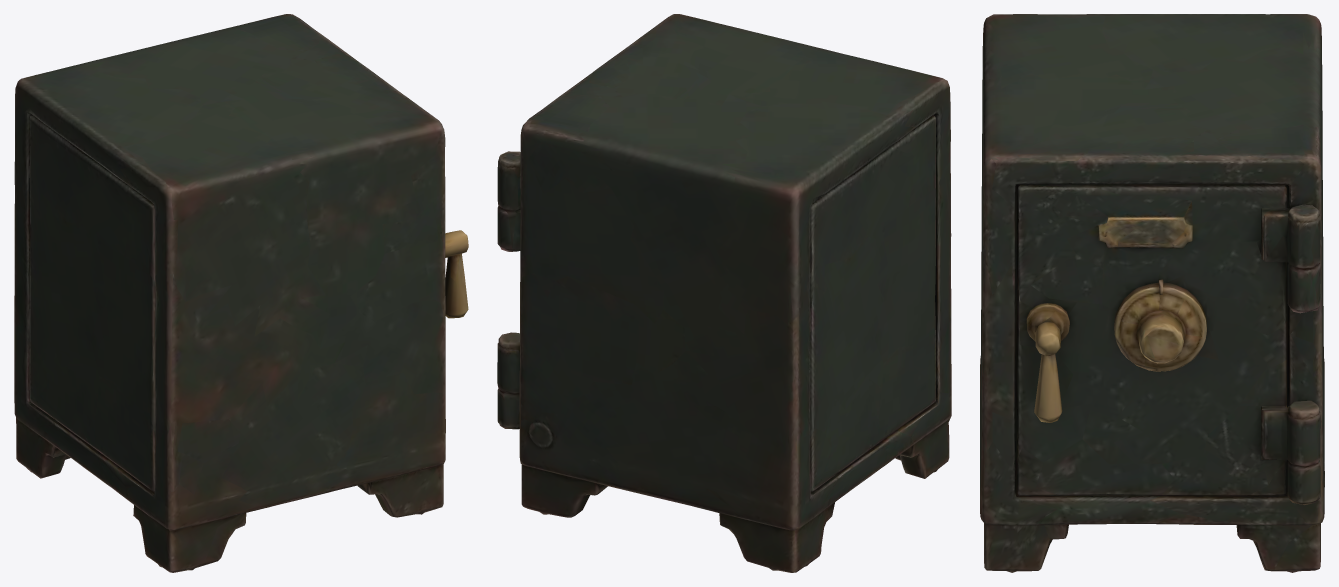
Rendered from safe.glb.
3 views of the same model, side by side, from view 1: azimuth 30°, elevation 25°; view 2: azimuth 150°, elevation 25°; view 3: azimuth 270°, elevation 25° (orthographic). The views are drawn at different scales.
Parts seen in each view (by area): view 1: tripo_node_32351e1a-f713-41e8-8049-66a95c46733c; view 2: tripo_node_32351e1a-f713-41e8-8049-66a95c46733c; view 3: tripo_node_32351e1a-f713-41e8-8049-66a95c46733c.
Part boxes in pixels (x1=…): tripo_node_32351e1a-f713-41e8-8049-66a95c46733c: x1=14, y1=14, x2=468, y2=572; tripo_node_32351e1a-f713-41e8-8049-66a95c46733c: x1=497, y1=14, x2=951, y2=572; tripo_node_32351e1a-f713-41e8-8049-66a95c46733c: x1=980, y1=14, x2=1324, y2=572.
Size of the model in its own units: 0.8896 by 1 by 0.7487.
1 material, 1 textured.
